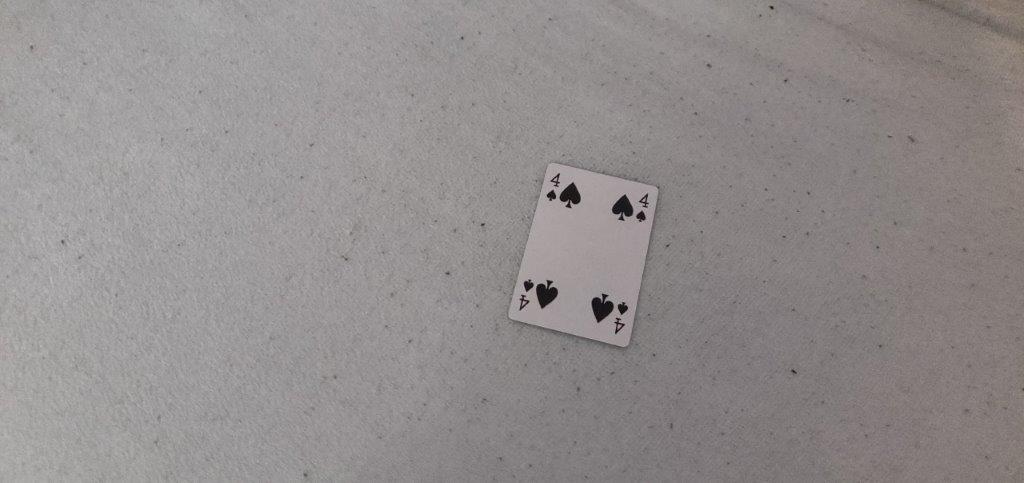4S: (634, 192, 653, 232), (544, 169, 563, 207)
